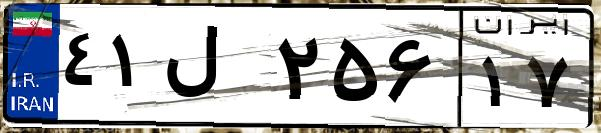1: (475, 38, 525, 113), (110, 28, 158, 98)
2: (270, 28, 330, 110)
4: (57, 26, 110, 100)
5: (330, 28, 385, 110)
6: (385, 28, 445, 110)
7: (525, 38, 570, 115)
ل: (158, 20, 270, 120)
